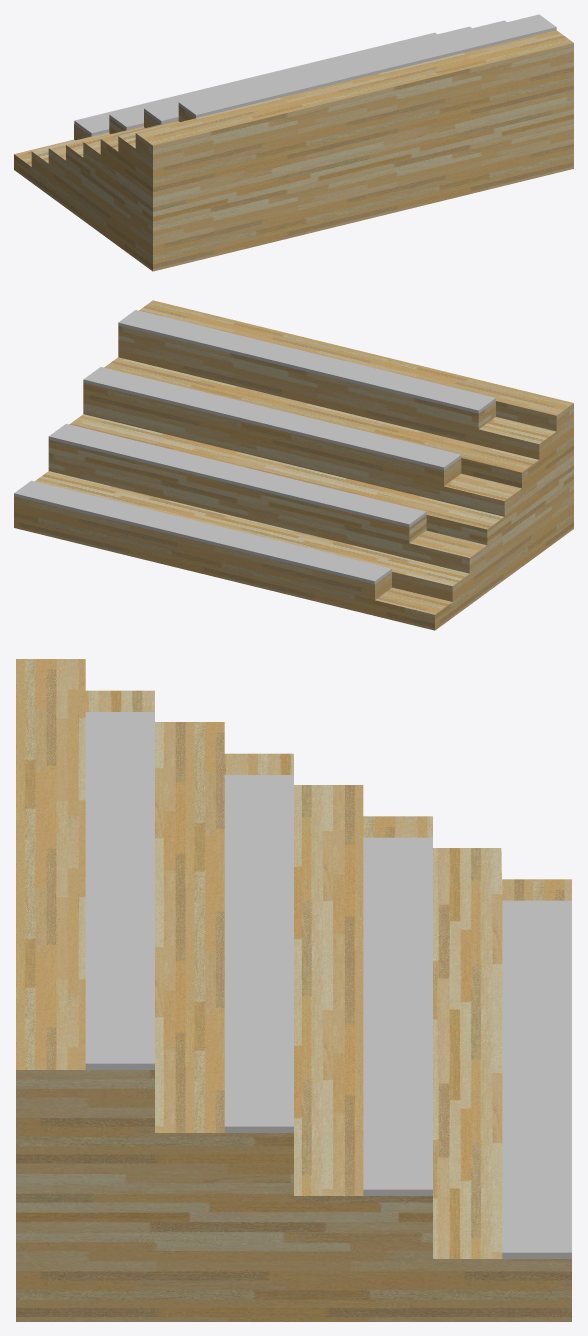
The model's file is stand.dae.
3 renders of one model, top to bottom at view 1: azimuth 30°, elevation 25°; view 2: azimuth 150°, elevation 25°; view 3: azimuth 270°, elevation 25°, orthographic. The views are drawn at different scales.
Visible parts, largest first — view 1: SketchUp (×5); view 2: SketchUp (×5); view 3: SketchUp (×5).
Part boxes in pixels (left/top/right/bottom): SketchUp (×5): left=14, top=14, right=573, bottom=271; SketchUp (×5): left=14, top=300, right=573, bottom=630; SketchUp (×5): left=16, top=659, right=571, bottom=1321.
Size of the model in its own units: 276 by 157 by 80.71.
